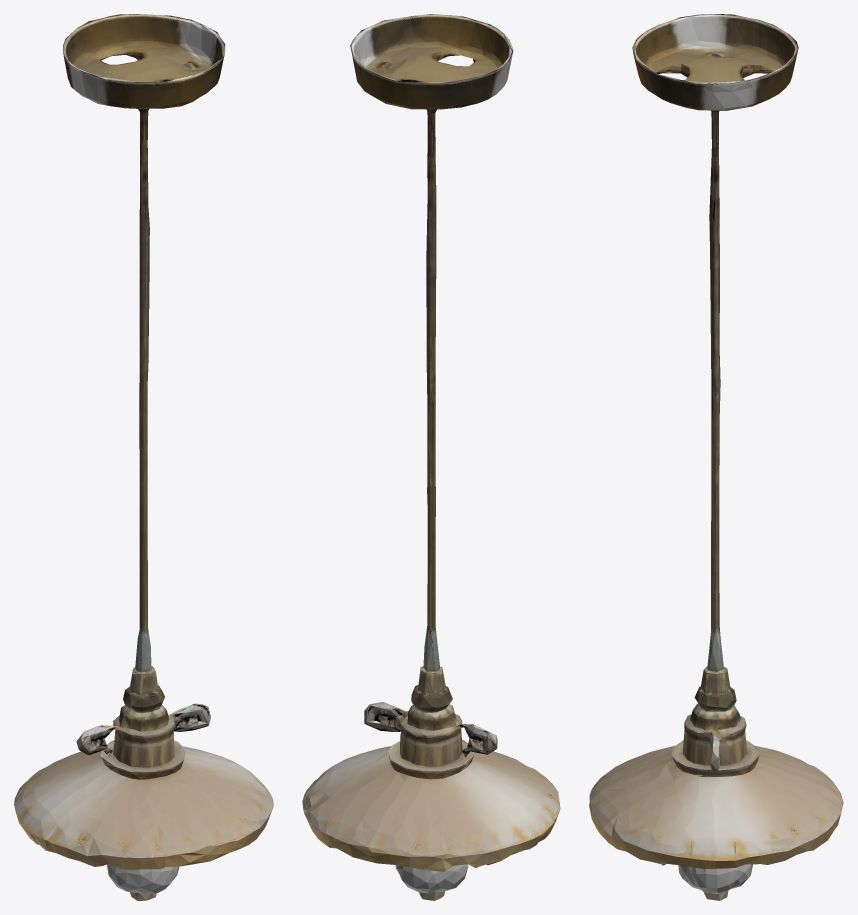
The model's file is ast_49b16f2d03ab.glb.
3 renders of one model, left to right at view 1: azimuth 30°, elevation 25°; view 2: azimuth 150°, elevation 25°; view 3: azimuth 270°, elevation 25°, orthographic.
Visible parts, largest first — view 1: geometry_0; view 2: geometry_0; view 3: geometry_0.
Boxes of the visible parts, left/top/right/bottom form: geometry_0: left=14, top=14, right=273, bottom=900; geometry_0: left=302, top=14, right=560, bottom=900; geometry_0: left=589, top=14, right=843, bottom=900.
Bounding box in the file's own units: 0.2789 × 1 × 0.2718.
Materials: 1 (1 with a texture image).
